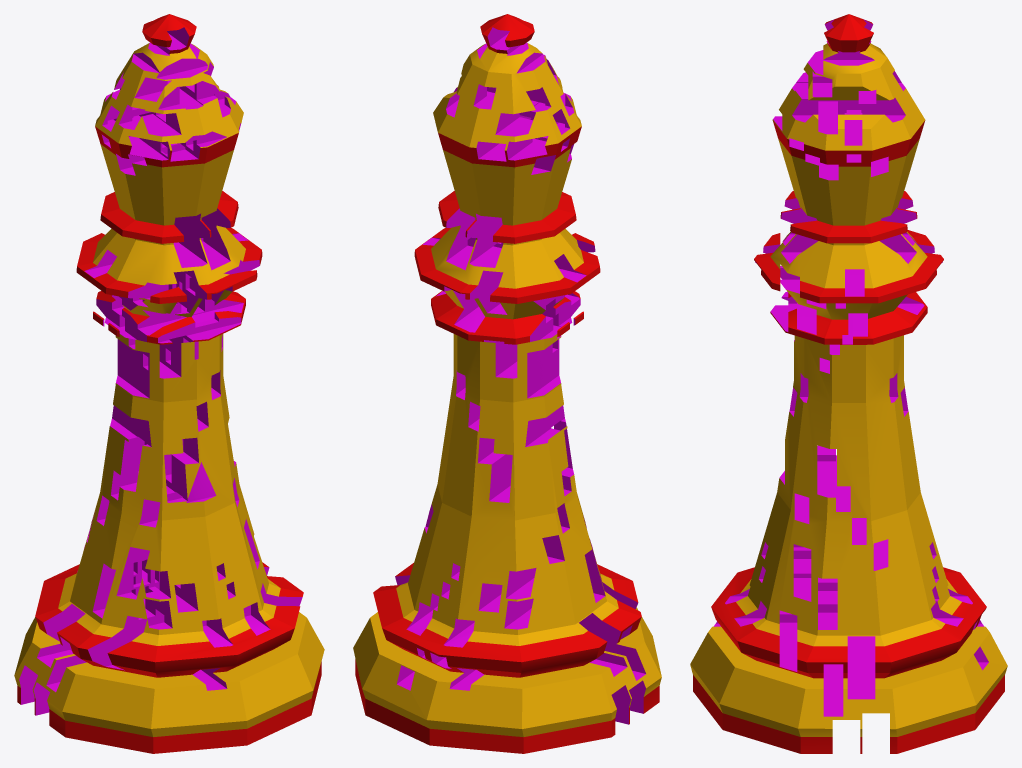
File: Bishop_Glitch.fbx
3 views of the same model, side by side, from view 1: azimuth 30°, elevation 25°; view 2: azimuth 150°, elevation 25°; view 3: azimuth 270°, elevation 25° (orthographic).
Visible parts, largest first — view 1: BishopLow_Glitch; view 2: BishopLow_Glitch; view 3: BishopLow_Glitch.
Boxes of the visible parts, x1,y1,x2,y2 form: BishopLow_Glitch: (14,14,324,753); BishopLow_Glitch: (353,14,661,753); BishopLow_Glitch: (690,14,1007,753).
Bounding box in the file's own units: 0.8245 × 2.03 × 0.8635.
